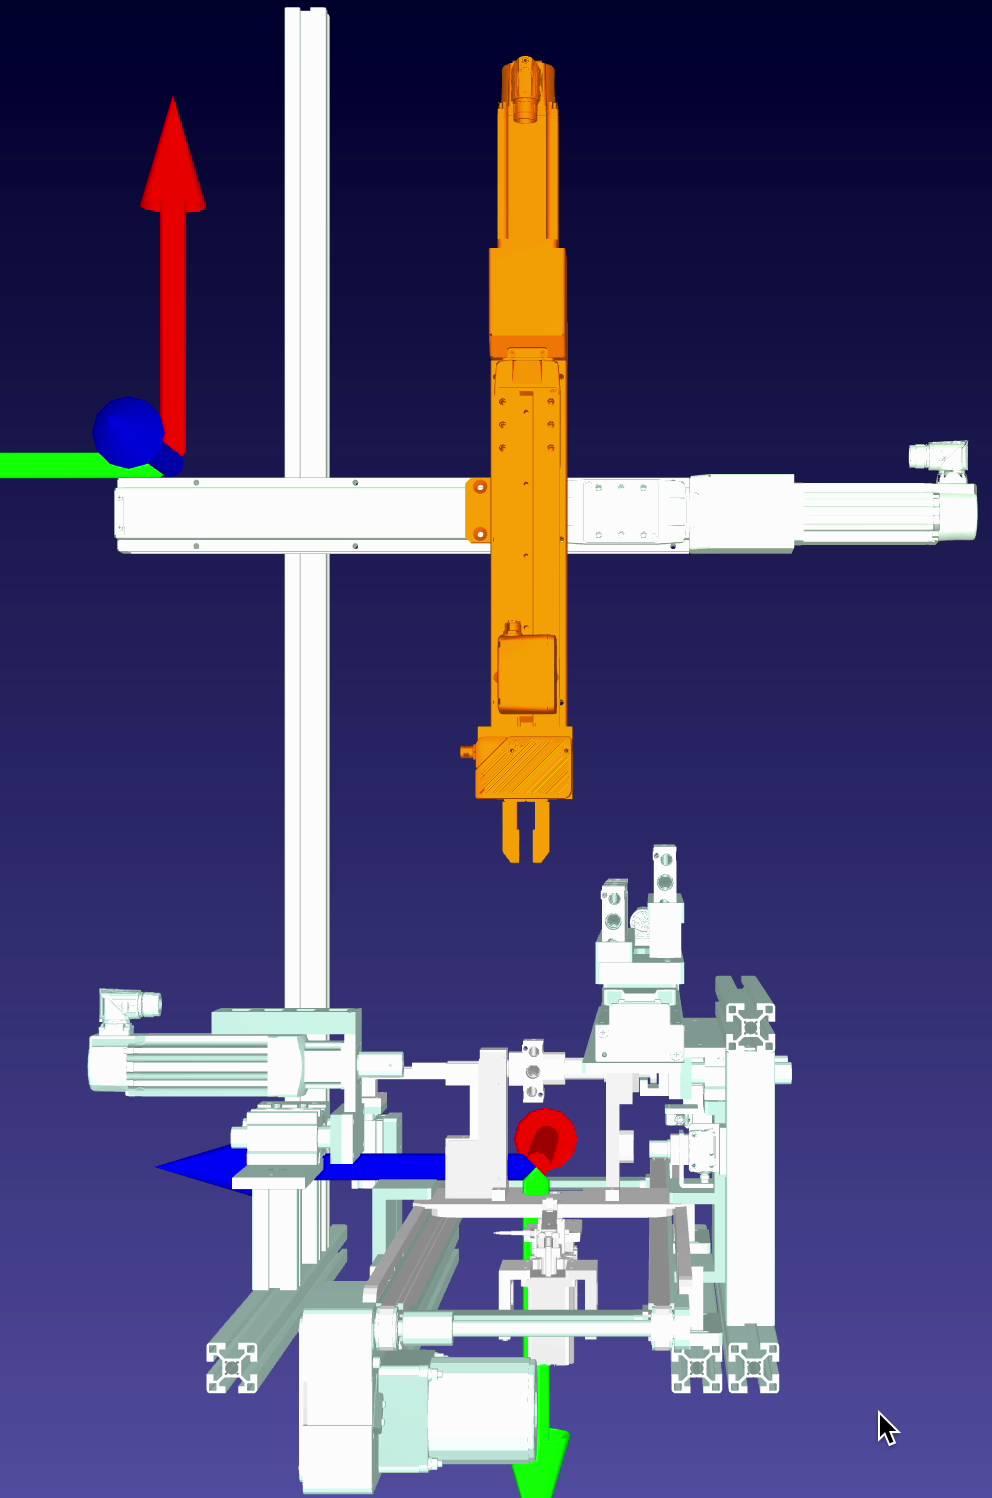Gripper: (468, 720, 586, 868)
